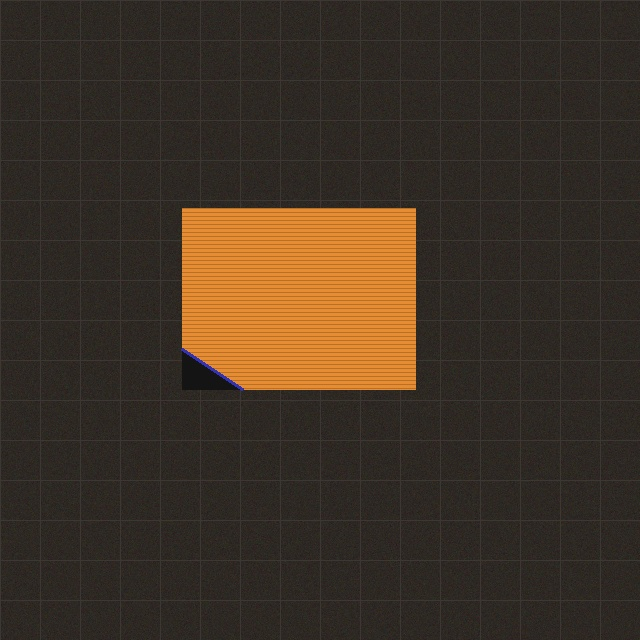warping: (172, 329, 262, 399)
